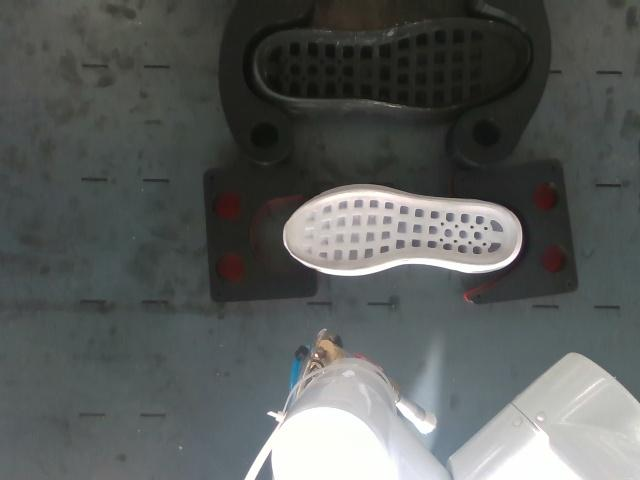shoes: (257, 18, 530, 108), (284, 191, 517, 271)
